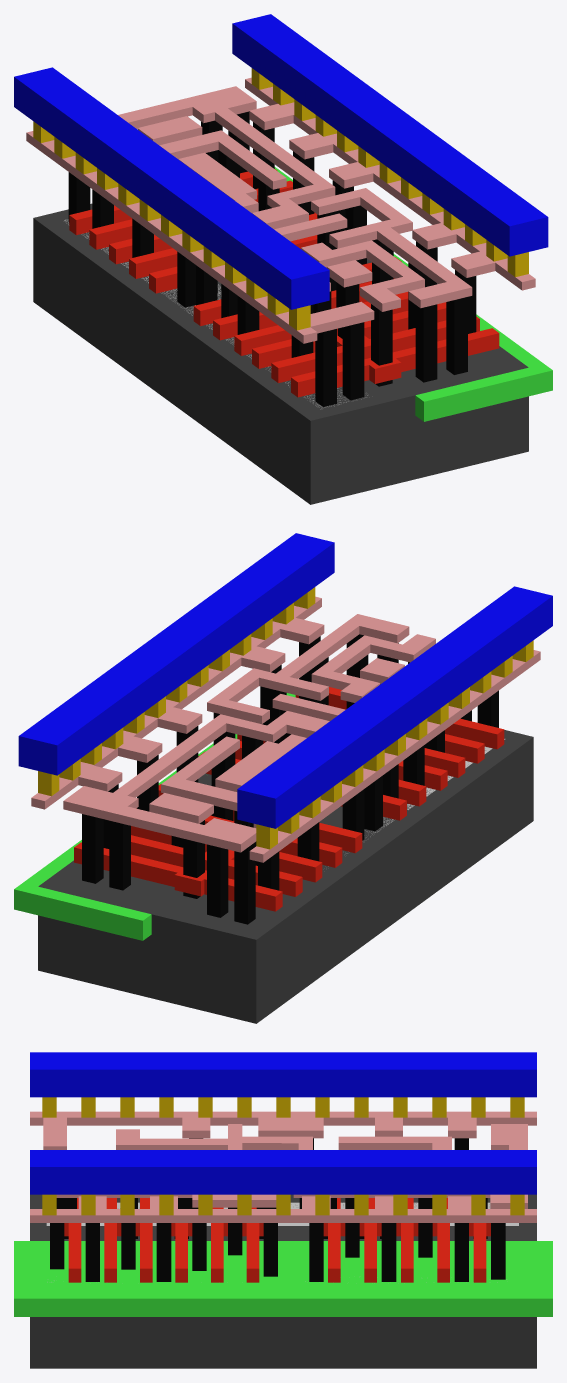
The model's file is sky130_fd_sc_hd__a21bo_4.obj.
The picture shows the model from 3 angles, top to bottom: view 1: azimuth 30°, elevation 25°; view 2: azimuth 150°, elevation 25°; view 3: azimuth 270°, elevation 25°; orthographic projection. The views are drawn at different scales.
Visible parts, largest first — view 1: subs, metal1, li, licon, poly, mcon, nwell; view 2: subs, metal1, li, licon, poly, mcon, nwell; view 3: metal1, nwell, subs, li, licon, poly, mcon, diff.
Boxes of the visible parts, box(x1,y1,x2,y2) form: subs: box(33, 203, 528, 504); metal1: box(14, 14, 548, 309); li: box(26, 77, 535, 343); licon: box(68, 111, 476, 406); poly: box(69, 169, 499, 397); mcon: box(33, 68, 528, 330); nwell: box(274, 167, 552, 421); subs: box(38, 730, 533, 1023); metal1: box(18, 533, 552, 828); li: box(31, 596, 540, 862); licon: box(82, 634, 498, 924); poly: box(74, 687, 504, 911); mcon: box(38, 587, 533, 849); nwell: box(14, 693, 295, 940); metal1: box(30, 1052, 536, 1194); nwell: box(14, 1241, 552, 1316); subs: box(30, 1194, 536, 1368); li: box(30, 1111, 536, 1222); licon: box(50, 1138, 505, 1281); poly: box(64, 1198, 490, 1282); mcon: box(42, 1097, 524, 1215); diff: box(46, 1202, 518, 1225).
Size of the model in its own units: 3.2 by 2.74 by 6.36.
